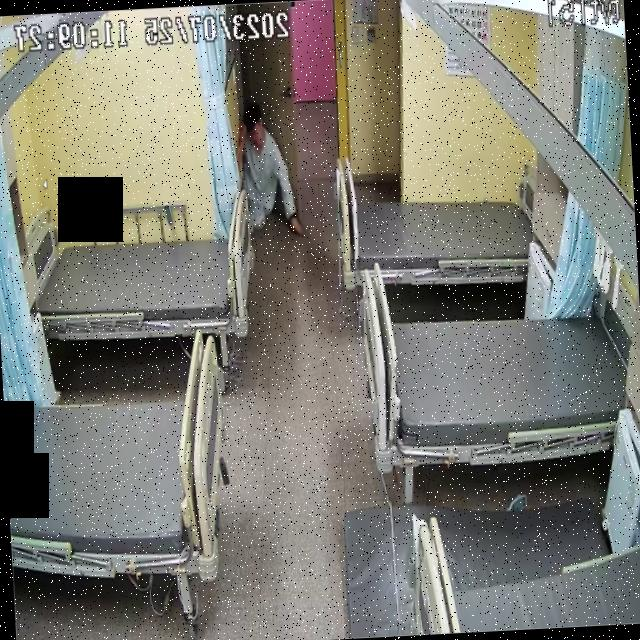bed: (0, 330, 234, 586), (362, 302, 633, 468), (19, 216, 259, 348), (339, 182, 533, 290)
fall: (236, 100, 303, 243)
patient: (236, 95, 304, 241)
